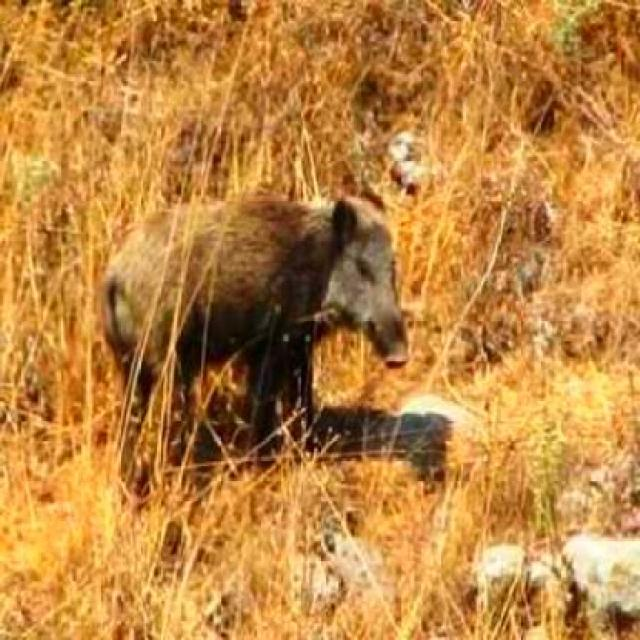Boar: (64, 157, 447, 454)
